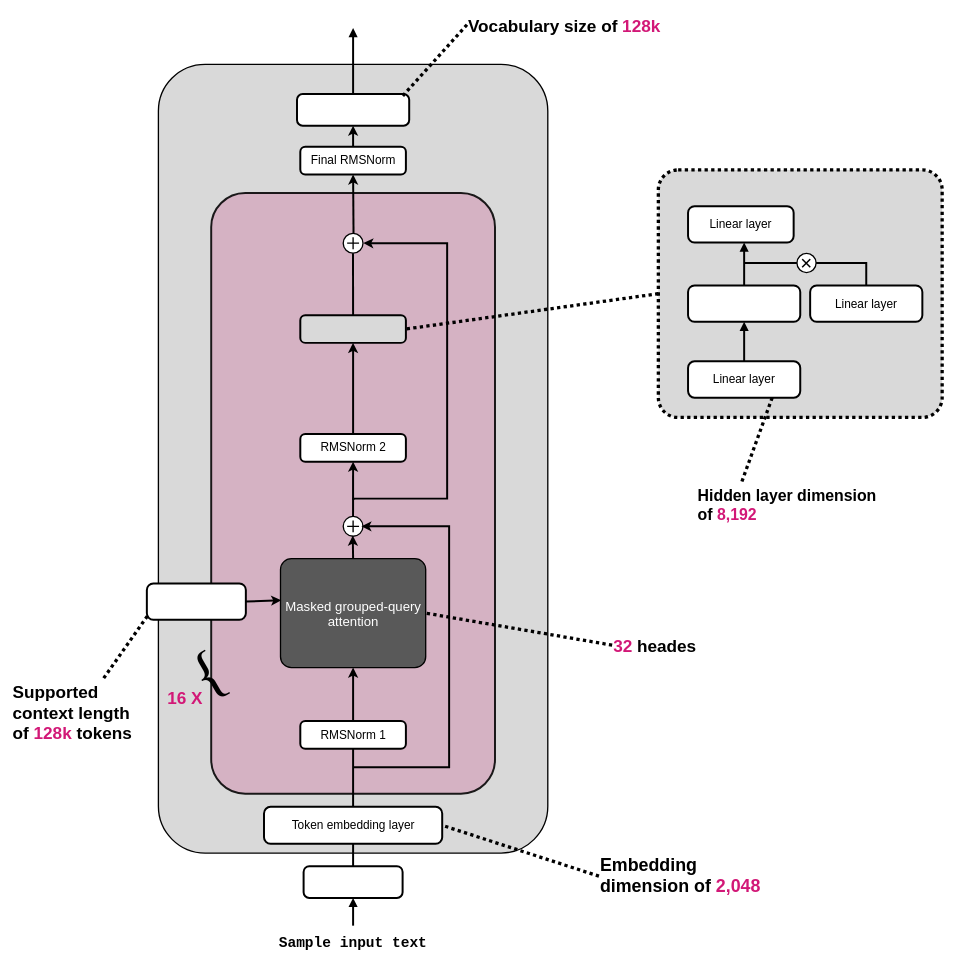
The diagram is 955 pixels wide and 970 high, and some of its shapes have lost their labels. The box of each missing label's shape, as (x1, y1, x2, y2) in pixels:
Feed forward: (299, 314, 407, 344)
Linear output layer: (296, 93, 410, 126)
RoPE: (146, 582, 247, 620)
SiLU activation: (687, 284, 801, 322)
Tokenized text: (302, 865, 403, 899)
